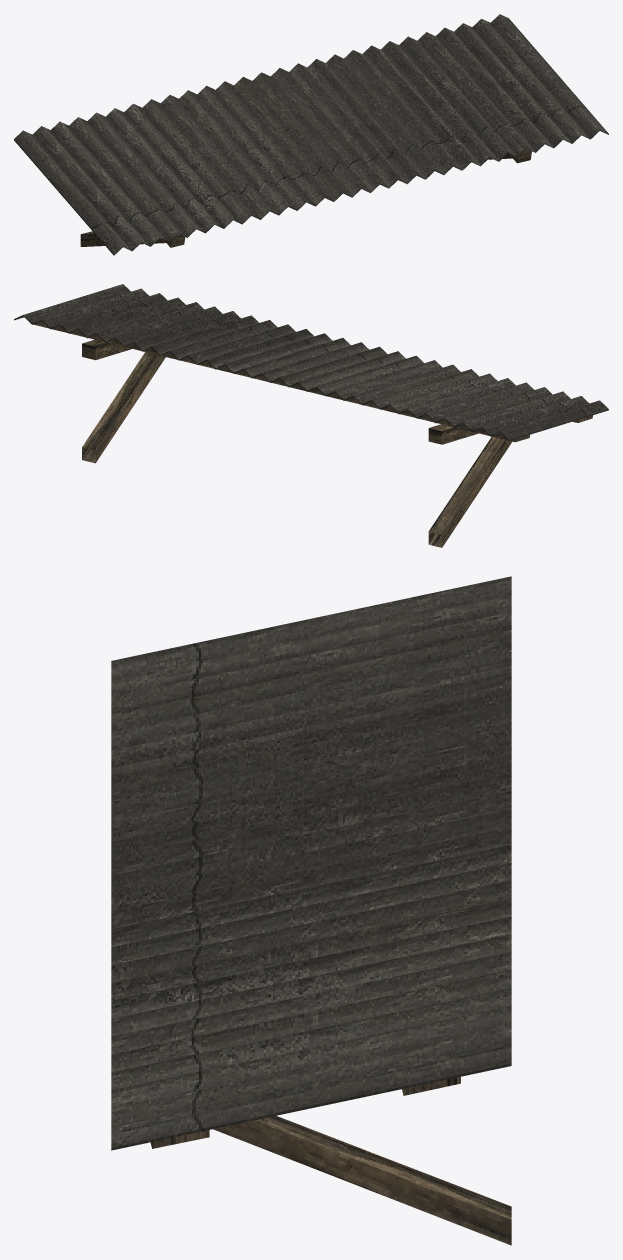
The model's file is roof_small_hr_2.glb.
3 views of the same model, one above another, from view 1: azimuth 30°, elevation 25°; view 2: azimuth 150°, elevation 25°; view 3: azimuth 270°, elevation 25° (orthographic). The views are drawn at different scales.
Parts seen in each view (by area): view 1: roof_small_hr_2; view 2: roof_small_hr_2; view 3: roof_small_hr_2.
Part boxes in pixels (left/top/right/bottom): roof_small_hr_2: left=14, top=14, right=608, bottom=255; roof_small_hr_2: left=14, top=284, right=608, bottom=547; roof_small_hr_2: left=111, top=576, right=511, bottom=1245.
Bounding box in the file's own units: 4 × 1.01 × 1.4.
2 materials, 2 textured.
